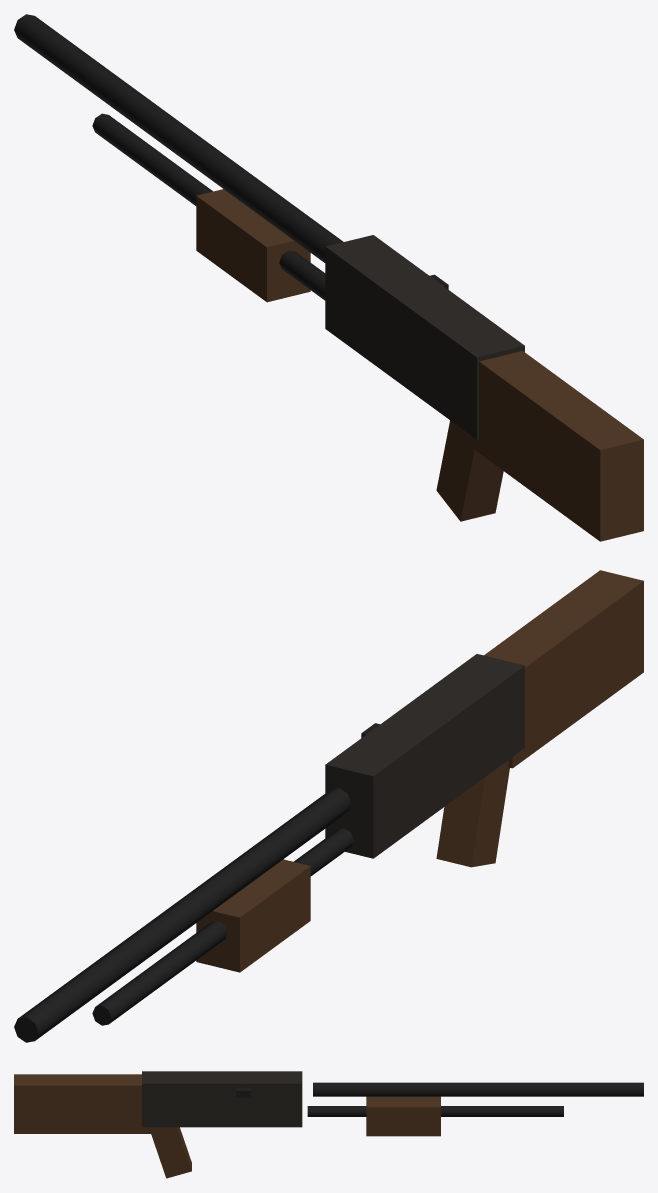
Rendered from shotgun.glb.
3 renders of one model, top to bottom at view 1: azimuth 30°, elevation 25°; view 2: azimuth 150°, elevation 25°; view 3: azimuth 270°, elevation 25°, orthographic. The views are drawn at different scales.
Parts seen in each view (by area): view 1: Stock, Receiver, Barrel, Bone_Pump, PistolGrip, TubeMagazine; view 2: Receiver, Stock, Barrel, Bone_Pump, PistolGrip, TubeMagazine; view 3: Receiver, Stock, Barrel, Bone_Pump, TubeMagazine, PistolGrip.
Part boxes in pixels (x1,y1,x2,y2): Stock: (469, 351, 643, 541); Receiver: (325, 235, 524, 439); Barrel: (14, 14, 343, 262); Bone_Pump: (196, 189, 310, 302); PistolGrip: (436, 420, 503, 521); TubeMagazine: (92, 113, 325, 300); Receiver: (325, 654, 524, 858); Stock: (484, 570, 643, 768); Barrel: (14, 788, 351, 1042); Bone_Pump: (196, 859, 310, 972); PistolGrip: (436, 760, 509, 867); TubeMagazine: (92, 828, 353, 1025); Receiver: (142, 1071, 302, 1127); Stock: (14, 1074, 152, 1133); Barrel: (313, 1082, 643, 1096); Bone_Pump: (366, 1096, 440, 1136); TubeMagazine: (307, 1106, 563, 1116); PistolGrip: (151, 1127, 191, 1178).
Size of the model in its own units: 0.0695 by 0.1995 by 1.18.
